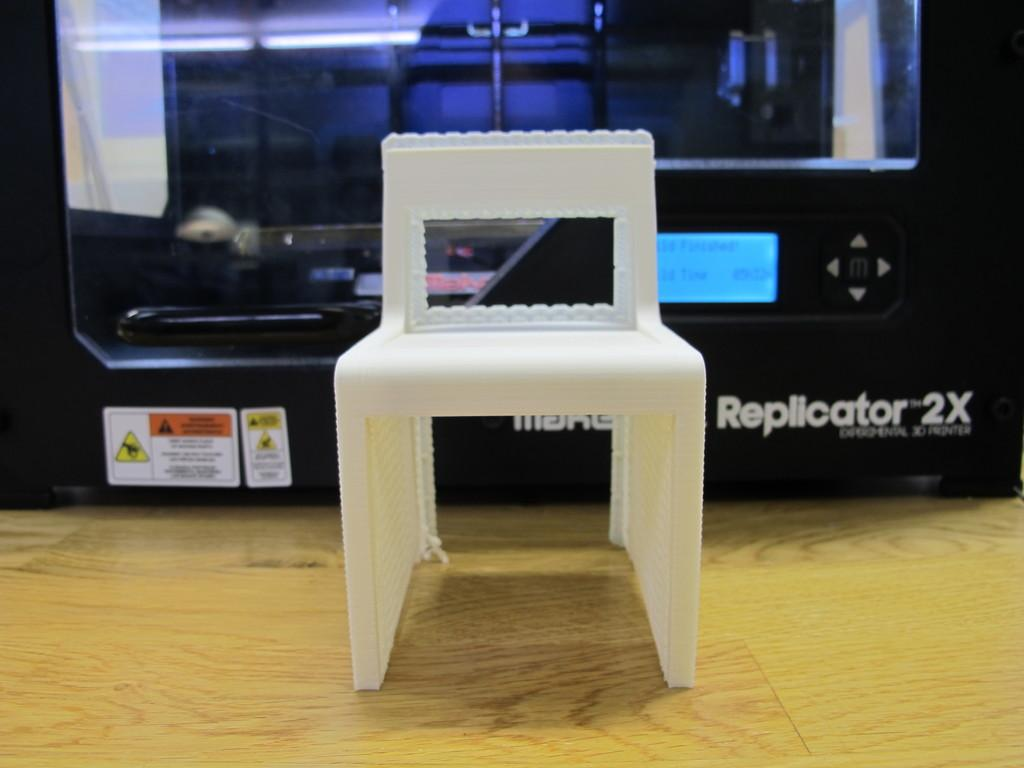Chair: (325, 122, 711, 696)
